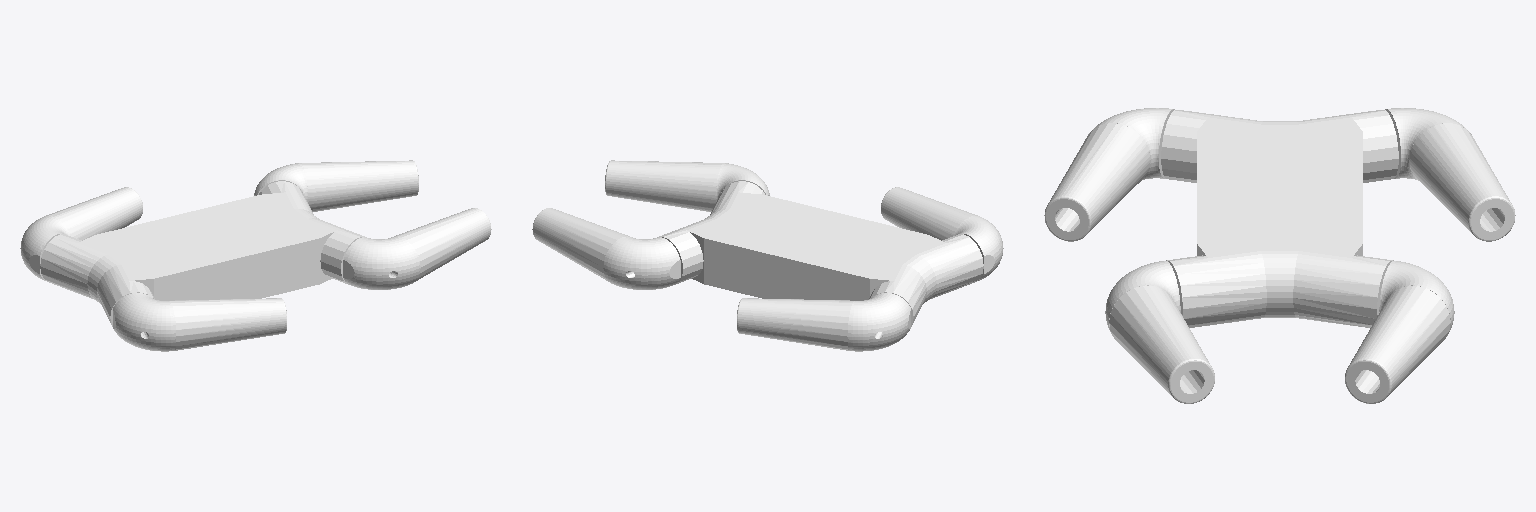
URDF robot description (18_degree):
<?xml version="1.0" encoding="utf-8"?>
<!-- This URDF was automatically created by SolidWorks to URDF Exporter! Originally created by [author] ([email redacted]) 
     Commit Version: 1.5.1-0-g916b5db  Build Version: 1.5.7152.31018
     For more information, please see http://wiki.ros.org/sw_urdf_exporter -->
<robot
  name="18_degree">
  <link
    name="base_link">
    <inertial>
      <origin
        xyz="6.9389E-18 6.0756E-08 3.4694E-18"
        rpy="0 0 0" />
      <mass
        value="2.803" />
      <inertia
        ixx="0.009846448"
        ixy="1.7999E-18"
        ixz="-8.3287E-11"
        iyy="0.042070361"
        iyz="8.2363E-20"
        izz="0.049547466" />
    </inertial>
    <visual>
      <origin
        xyz="0 0 0"
        rpy="0 0 0" />
      <geometry>
        <mesh
          filename="package://18_degree/meshes/base_link.STL" />
      </geometry>
      <material
        name="">
        <color
          rgba="1 1 1 1" />
      </material>
    </visual>
    <collision>
      <origin
        xyz="0 0 0"
        rpy="0 0 0" />
      <geometry>
        <mesh
          filename="package://18_degree/meshes/base_link.STL" />
      </geometry>
    </collision>
  </link>
  <link
    name="left_fromt_link">
    <inertial>
      <origin
        xyz="-9.7559E-08 0.072733 -0.014518"
        rpy="0 0 0" />
      <mass
        value="0.0911" />
      <inertia
        ixx="0.000317207"
        ixy="9.9181E-11"
        ixz="9.5062E-10"
        iyy="0.000061871"
        iyz="-0.000058502"
        izz="0.000303135" />
    </inertial>
    <visual>
      <origin
        xyz="0 0 0"
        rpy="0 0 0" />
      <geometry>
        <mesh
          filename="package://18_degree/meshes/left_fromt_link.STL" />
      </geometry>
      <material
        name="">
        <color
          rgba="1 1 1 1" />
      </material>
    </visual>
    <collision>
      <origin
        xyz="0 0 0"
        rpy="0 0 0" />
      <geometry>
        <mesh
          filename="package://18_degree/meshes/left_fromt_link.STL" />
      </geometry>
    </collision>
  </link>
  <joint
    name="left_front_leg"
    type="continuous">
    <origin
      xyz="0.16183 0.097959 0"
      rpy="1.5708 1.5708 0" />
    <parent
      link="base_link" />
    <child
      link="left_fromt_link" />
    <axis
      xyz="0 0.30902 -0.95106" />
    <limit
      effort="5"
      velocity="487" />
  </joint>
  <link
    name="right_front_link">
    <inertial>
      <origin
        xyz="9.7559E-08 0.072733 0.014518"
        rpy="0 0 0" />
      <mass
        value="0.0911" />
      <inertia
        ixx="0.000317207"
        ixy="-9.9181E-11"
        ixz="9.5062E-10"
        iyy="0.000061871"
        iyz="0.000058502"
        izz="0.000303135" />
    </inertial>
    <visual>
      <origin
        xyz="0 0 0"
        rpy="0 0 0" />
      <geometry>
        <mesh
          filename="package://18_degree/meshes/right_front_link.STL" />
      </geometry>
      <material
        name="">
        <color
          rgba="1 1 1 1" />
      </material>
    </visual>
    <collision>
      <origin
        xyz="0 0 0"
        rpy="0 0 0" />
      <geometry>
        <mesh
          filename="package://18_degree/meshes/right_front_link.STL" />
      </geometry>
    </collision>
  </link>
  <joint
    name="right_front_leg"
    type="continuous">
    <origin
      xyz="0.16183 -0.097959 0"
      rpy="1.5708 1.5708 0" />
    <parent
      link="base_link" />
    <child
      link="right_front_link" />
    <axis
      xyz="0 0.30902 0.95106" />
    <limit
      effort="5"
      velocity="487" />
  </joint>
  <link
    name="right_back_link">
    <inertial>
      <origin
        xyz="7.9526E-08 0.064688 0.036283"
        rpy="0 0 0" />
      <mass
        value="0.0911" />
      <inertia
        ixx="0.000317207"
        ixy="-3.5256E-10"
        ixz="2.8203E-10"
        iyy="0.000050523"
        iyz="-0.000023567"
        izz="0.000314483" />
    </inertial>
    <visual>
      <origin
        xyz="0 0 0"
        rpy="0 0 0" />
      <geometry>
        <mesh
          filename="package://18_degree/meshes/right_back_link.STL" />
      </geometry>
      <material
        name="">
        <color
          rgba="1 1 1 1" />
      </material>
    </visual>
    <collision>
      <origin
        xyz="0 0 0"
        rpy="0 0 0" />
      <geometry>
        <mesh
          filename="package://18_degree/meshes/right_back_link.STL" />
      </geometry>
    </collision>
  </link>
  <joint
    name="right_back_leg"
    type="continuous">
    <origin
      xyz="-0.16183 -0.097959 0"
      rpy="1.885 1.5708 0" />
    <parent
      link="base_link" />
    <child
      link="right_back_link" />
    <axis
      xyz="0 0 1" />
    <limit
      effort="5"
      velocity="487" />
  </joint>
  <link
    name="left_back_link">
    <inertial>
      <origin
        xyz="-7.9526E-08 0.05031 -0.054497"
        rpy="0 0 0" />
      <mass
        value="0.0911" />
      <inertia
        ixx="0.000317207"
        ixy="4.2245E-10"
        ixz="1.5928E-10"
        iyy="0.000089587"
        iyz="0.00009665"
        izz="0.00027542" />
    </inertial>
    <visual>
      <origin
        xyz="0 0 0"
        rpy="0 0 0" />
      <geometry>
        <mesh
          filename="package://18_degree/meshes/left_back_link.STL" />
      </geometry>
      <material
        name="">
        <color
          rgba="1 1 1 1" />
      </material>
    </visual>
    <collision>
      <origin
        xyz="0 0 0"
        rpy="0 0 0" />
      <geometry>
        <mesh
          filename="package://18_degree/meshes/left_back_link.STL" />
      </geometry>
    </collision>
  </link>
  <joint
    name="left_back_leg"
    type="continuous">
    <origin
      xyz="-0.16183 0.097959 0"
      rpy="1.5708 1.5708 0" />
    <parent
      link="base_link" />
    <child
      link="left_back_link" />
    <axis
      xyz="0 -0.30902 -0.95106" />
    <limit
      effort="5"
      velocity="487" />
  </joint>
</robot>

--- Facts derived from the render (not from the file) ---
Views: 3 orthographic renders of the robot side by side, from view 1: azimuth 30°, elevation 25°; view 2: azimuth 150°, elevation 25°; view 3: azimuth 270°, elevation 25°.
Model 18_degree with 5 links and 4 joints (4 continuous), rooted at base_link, posed every joint at zero.
Visible links, largest first — view 1: base_link, right_back_link, right_front_link, left_fromt_link, left_back_link; view 2: base_link, left_back_link, left_fromt_link, right_front_link, right_back_link; view 3: base_link, right_back_link, left_back_link, right_front_link, left_fromt_link.
Link boxes in pixels (x1,y1,x2,y2): base_link: [40, 181, 364, 326]; right_back_link: [113, 293, 286, 351]; right_front_link: [343, 208, 491, 289]; left_fromt_link: [254, 160, 418, 211]; left_back_link: [20, 187, 142, 280]; base_link: [659, 181, 983, 326]; left_back_link: [737, 293, 910, 351]; left_fromt_link: [532, 208, 680, 289]; right_front_link: [605, 160, 769, 211]; right_back_link: [881, 187, 1003, 280]; base_link: [1161, 110, 1398, 327]; right_back_link: [1044, 108, 1174, 241]; left_back_link: [1385, 108, 1515, 241]; right_front_link: [1105, 261, 1214, 403]; left_fromt_link: [1345, 261, 1454, 403].
Bounding box of the posed robot: 0.5512 × 0.4272 × 0.064 m (x, y, z).
Meshes: 5 distinct files referenced, 5 mesh visuals loaded (5 binary STL).